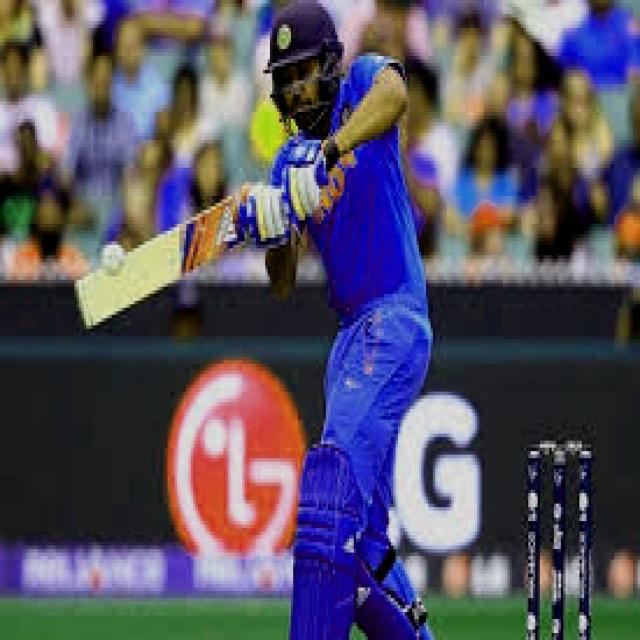toe: (73, 280, 92, 333)
